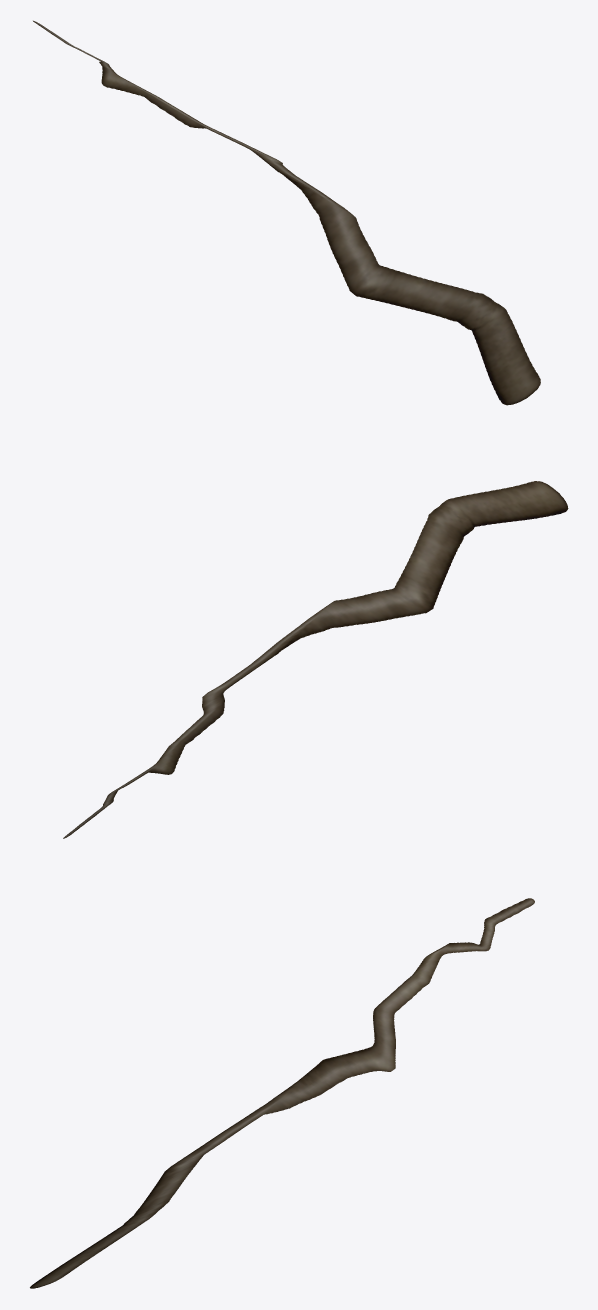
Rendered from MEP_DTree_P_03.fbx.
The picture shows the model from 3 angles, top to bottom: view 1: azimuth 30°, elevation 25°; view 2: azimuth 150°, elevation 25°; view 3: azimuth 330°, elevation 25°; orthographic projection. The views are drawn at different scales.
Visible parts, largest first — view 1: MEP_DTree_P_03; view 2: MEP_DTree_P_03; view 3: MEP_DTree_P_03.
Part boxes in pixels (bbox=[...]): MEP_DTree_P_03: bbox=[33, 20, 540, 405]; MEP_DTree_P_03: bbox=[63, 481, 568, 838]; MEP_DTree_P_03: bbox=[30, 898, 534, 1288].
Bounding box in the file's own units: 0.2732 × 0.1473 × 2.89.
